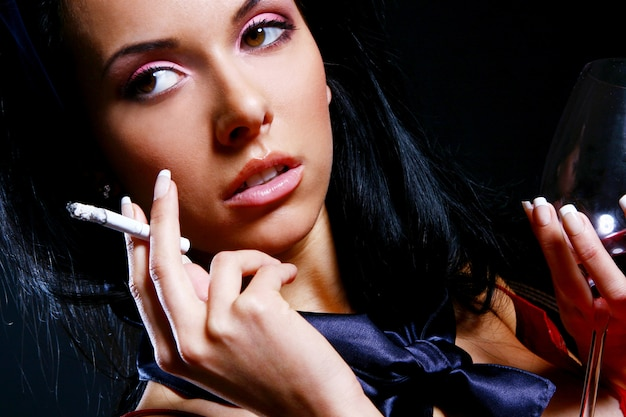cigarette: (64, 200, 191, 253)
